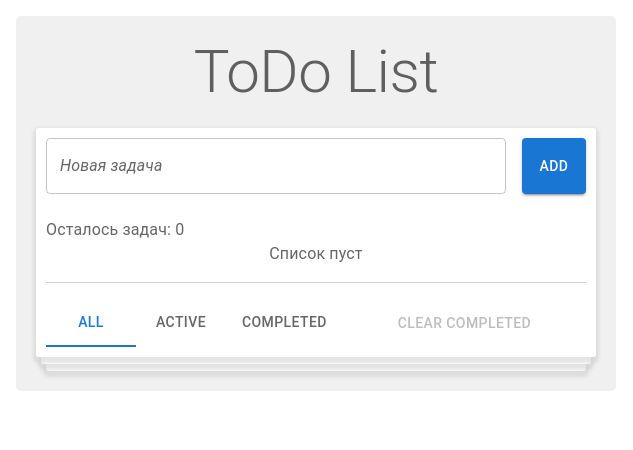
ToDo App › очищает выполненные задачи
The image size is (633, 450).
Type "Тестовая задача" into the field labelled "Новая задача" at {"x": 276, "y": 166}, box [46,138,506,194]
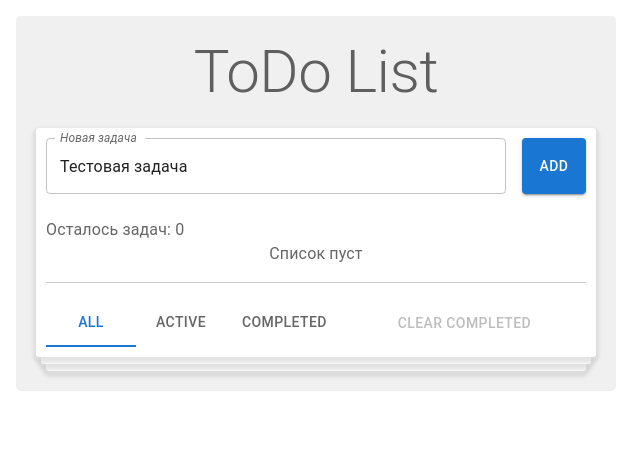
Click the button "Add" at {"x": 554, "y": 166}, box [522,138,586,194]
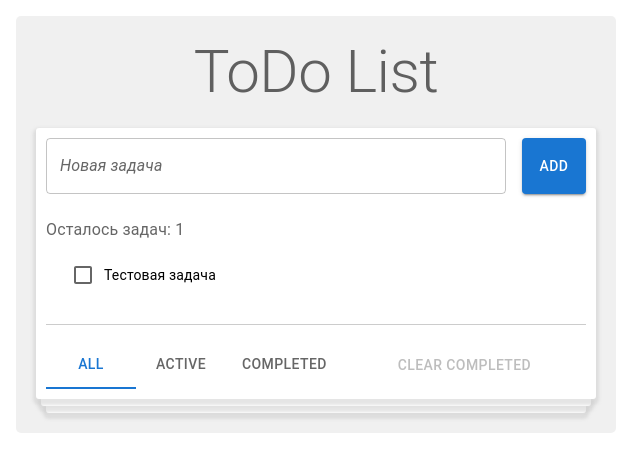
Click the checkbox at {"x": 83, "y": 275}, box [71,263,95,287]
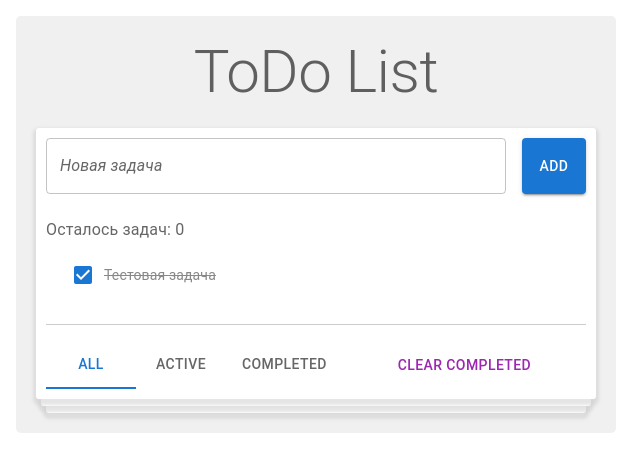
Click the button "Clear completed" at {"x": 464, "y": 365}, box [343,341,586,389]
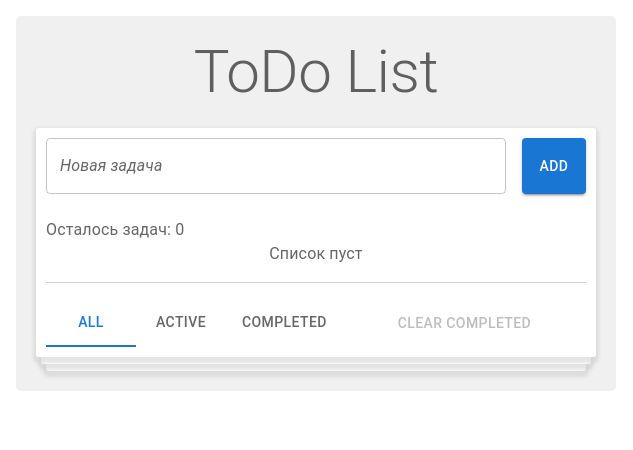
expect the text "Тестовая задача" is gone: met
